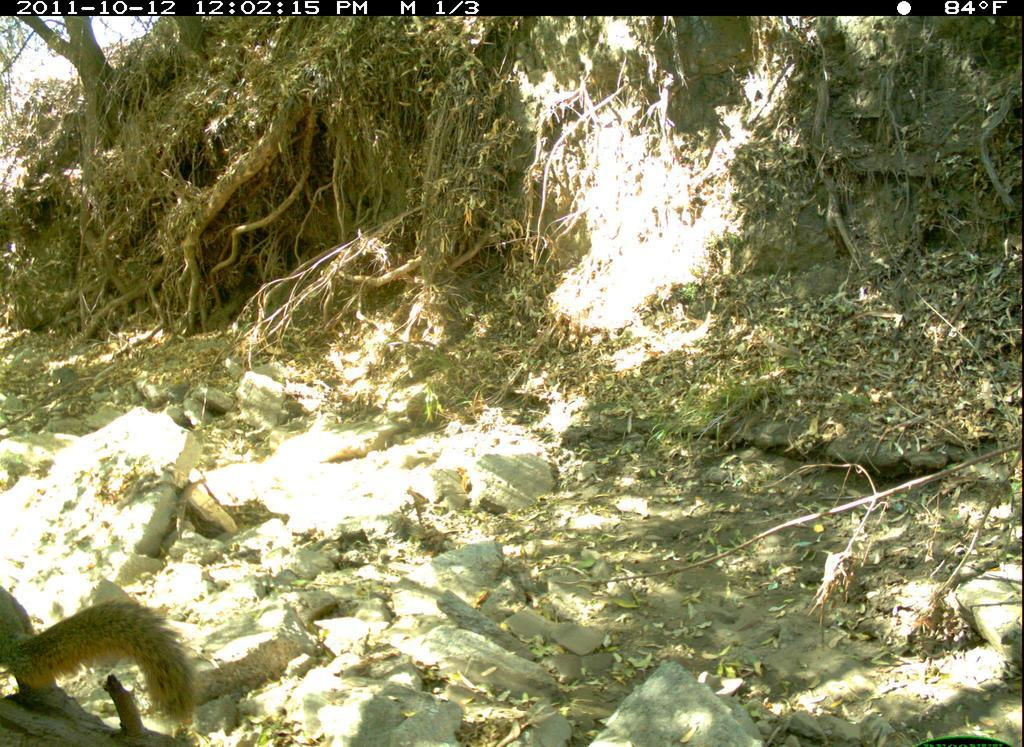squirrel: (1, 577, 204, 742)
